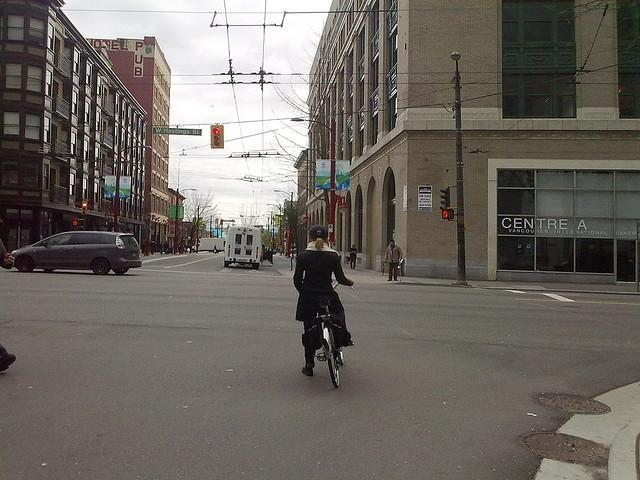bicycle: (318, 302, 347, 388)
car: (11, 232, 144, 277)
truck: (225, 225, 262, 268), (200, 237, 226, 254)
